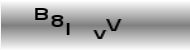8: (49, 14, 65, 27)
B: (34, 7, 49, 21)
V: (105, 18, 122, 31)
l: (65, 22, 71, 36)
v: (93, 29, 106, 40)
